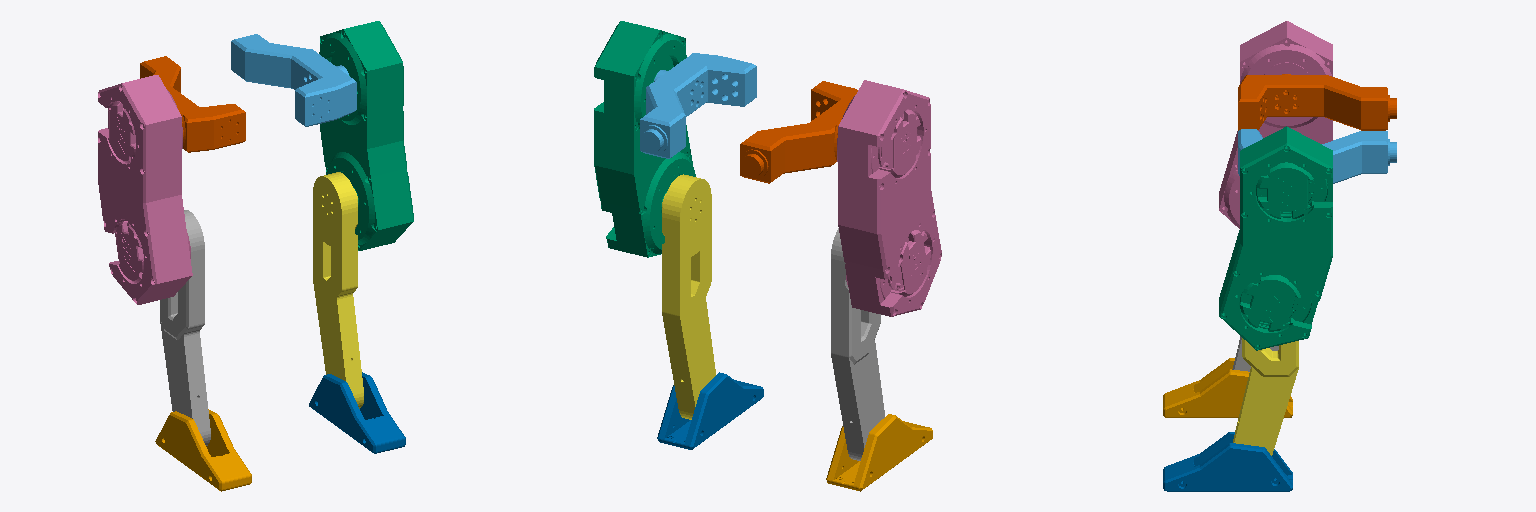
robot.urdf — BERNARD:
<robot name="BERNARD" version="1.0">
  <joint name="l_hip_joint" type="revolute">
    <dynamics damping="0.01000"/>
    <limit lower="-0.52360" upper="0.52360" effort="9.00000" velocity="9.00000"/>
    <origin rpy="0.00000 0.00000 0.00000" xyz="0.04994 -0.01531 0.00081"/>
    <parent link="body"/>
    <child link="l_hip"/>
    <axis xyz="0.00000 1.00000 0.00000"/>
  </joint>
  <joint name="l_arm_joint" type="revolute">
    <dynamics damping="0.01000"/>
    <limit lower="-0.87266" upper="1.91986" effort="9.00000" velocity="9.00000"/>
    <origin rpy="0.00000 0.00000 0.00000" xyz="0.05205 0.04685 -0.00010"/>
    <parent link="l_hip"/>
    <child link="l_arm"/>
    <axis xyz="1.00000 0.00000 0.00000"/>
  </joint>
  <joint name="l_knee_joint" type="revolute">
    <dynamics damping="0.01000"/>
    <limit lower="-1.74533" upper="2.09440" effort="9.00000" velocity="9.00000"/>
    <origin rpy="0.00000 0.00000 0.00000" xyz="-0.00042 -0.01548 -0.11919"/>
    <parent link="l_arm"/>
    <child link="l_forearm"/>
    <axis xyz="-1.00000 0.00000 0.00000"/>
  </joint>
  <joint name="l_foot_joint" type="revolute">
    <dynamics damping="0.01000"/>
    <limit lower="-1.39626" upper="1.22173" effort="0.00000" velocity="0.00000"/>
    <origin rpy="0.00000 0.00000 0.00000" xyz="-0.01749 -0.02000 -0.19000"/>
    <parent link="l_forearm"/>
    <child link="l_foot"/>
    <axis xyz="1.00000 0.00000 0.00000"/>
  </joint>
  <joint name="r_hip_joint" type="revolute">
    <dynamics damping="0.01000"/>
    <limit lower="-0.52360" upper="0.52360" effort="9.00000" velocity="9.00000"/>
    <origin rpy="0.00000 0.00000 0.00000" xyz="-0.04994 -0.01531 0.00081"/>
    <parent link="body"/>
    <child link="r_hip"/>
    <axis xyz="0.00000 1.00000 0.00000"/>
  </joint>
  <joint name="r_arm_joint" type="revolute">
    <dynamics damping="0.01000"/>
    <limit lower="-1.91986" upper="0.87266" effort="9.00000" velocity="9.00000"/>
    <origin rpy="0.00000 0.00000 0.00000" xyz="-0.05205 0.04685 -0.00010"/>
    <parent link="r_hip"/>
    <child link="r_arm"/>
    <axis xyz="-1.00000 0.00000 0.00000"/>
  </joint>
  <joint name="r_knee_joint" type="revolute">
    <dynamics damping="0.01000"/>
    <limit lower="-2.09440" upper="1.74533" effort="9.00000" velocity="9.00000"/>
    <origin rpy="0.00000 0.00000 0.00000" xyz="0.00042 -0.01548 -0.11919"/>
    <parent link="r_arm"/>
    <child link="r_forearm"/>
    <axis xyz="1.00000 0.00000 0.00000"/>
  </joint>
  <joint name="r_foot_joint" type="revolute">
    <dynamics damping="0.01000"/>
    <limit lower="-1.39626" upper="1.22173" effort="0.00000" velocity="0.00000"/>
    <origin rpy="0.00000 0.00000 0.00000" xyz="0.01749 -0.02000 -0.19000"/>
    <parent link="r_forearm"/>
    <child link="r_foot"/>
    <axis xyz="1.00000 0.00000 0.00000"/>
  </joint>
  <link name="body">
    <inertial>
      <inertia ixx="0.00935" ixy="-0.00027" ixz="-0.00024" iyy="0.00514" iyz="-0.00100" izz="0.00906"/>
      <origin rpy="0.00000 0.00000 0.00000" xyz="0.00372 0.03380 0.00945"/>
      <mass value="2.10000"/>
    </inertial>
    <collision name="Body_collision">
      <origin rpy="0.00000 0.00000 0.00000" xyz="-0.00001 0.04184 0.00149"/>
      <geometry>
        <box size="0.14245 0.20528 0.14803"/>
      </geometry>
    </collision>
    <sensor name="imu_sensor" type="imu">
      <parent link="body"/>
    </sensor>
    <visual name="Body">
      <origin rpy="1.57079633 0.00000 0.00000" xyz="0.00000 0.00000 0.00000"/>
      <geometry>
        <mesh filename="../meshes/obj/Body.obj" scale="1.00000 1.00000 1.00000"/>
      </geometry>
    </visual>
  </link>
  <link name="l_hip">
    <inertial>
      <inertia ixx="0.00017" ixy="0.00002" ixz="0.00000" iyy="0.00003" iyz="0.00000" izz="0.00019"/>
      <origin rpy="0.00000 0.00000 0.00000" xyz="0.01698 0.06739 -0.00000"/>
      <mass value="0.08000"/>
    </inertial>
    <visual name="L_Hip_Connector">
      <origin rpy="0.00000 -1.57079633 0.00000" xyz="0.00000 -0.00000 -0.00000"/>
      <geometry>
        <mesh filename="../meshes/obj/Hip_Connector.obj" scale="1.00000 1.00000 1.00000"/>
      </geometry>
    </visual>
  </link>
  <link name="l_arm">
    <inertial>
      <inertia ixx="0.00330" ixy="0.00001" ixz="-0.00000" iyy="0.00295" iyz="-0.00031" izz="0.00057"/>
      <origin rpy="0.00000 0.00000 0.00000" xyz="0.01944 -0.00693 -0.05951"/>
      <mass value="0.85000"/>
    </inertial>
    <collision name="L_Arm_collision">
      <origin rpy="-0.09437 0.00000 0.00000" xyz="0.01969 -0.00538 -0.05894"/>
      <geometry>
        <box size="0.04085 0.08711 0.19733"/>
      </geometry>
    </collision>
    <visual name="L_Arm">
      <origin rpy="1.57079633 0.00000 0.00000" xyz="-0.00000 0.00000 0.00000"/>
      <geometry>
        <mesh filename="../meshes/obj/L_Arm.obj" scale="1.00000 1.00000 1.00000"/>
      </geometry>
    </visual>
  </link>
  <link name="l_forearm">
    <inertial>
      <inertia ixx="0.00063" ixy="-0.00000" ixz="-0.00001" iyy="0.00061" iyz="-0.00007" izz="0.00003"/>
      <origin rpy="0.00000 0.00000 0.00000" xyz="-0.01689 -0.00721 -0.10326"/>
      <mass value="0.12000"/>
    </inertial>
    <collision name="L_Forearm_collision">
      <origin rpy="-0.09719 0.00000 0.00000" xyz="-0.01756 -0.00403 -0.07785"/>
      <geometry>
        <box size="0.02168 0.04390 0.17549"/>
      </geometry>
    </collision>
    <visual name="L_Forearm">
      <origin rpy="1.57079633 0.00000 0.00000" xyz="-0.00000 0.00000 0.00000"/>
      <geometry>
        <mesh filename="../meshes/obj/L_Forearm.obj" scale="1.00000 1.00000 1.00000"/>
      </geometry>
    </visual>
  </link>
  <link name="l_foot">
    <inertial>
      <inertia ixx="0.00006" ixy="-0.00000" ixz="0.00000" iyy="0.00001" iyz="-0.00000" izz="0.00006"/>
      <origin rpy="0.00000 0.00000 0.00000" xyz="0.00004 -0.01759 -0.01344"/>
      <mass value="0.06000"/>
    </inertial>
    <collision name="L_Foot_collision">
      <origin rpy="0.00000 0.00000 0.00000" xyz="0.00000 -0.02129 -0.02427"/>
      <geometry>
        <box size="0.03697 0.12436 0.00963"/>
      </geometry>
    </collision>
    <visual name="L_Foot">
      <origin rpy="1.57079633 0.00000 0.00000" xyz="-0.00000 0.00000 0.00000"/>
      <geometry>
        <mesh filename="../meshes/obj/Foot.obj" scale="1.00000 1.00000 1.00000"/>
      </geometry>
    </visual>
  </link>
  <link name="r_hip">
    <inertial>
      <inertia ixx="0.00017" ixy="-0.00002" ixz="0.00000" iyy="0.00003" iyz="-0.00000" izz="0.00019"/>
      <origin rpy="0.00000 0.00000 0.00000" xyz="-0.01698 0.06739 0.00000"/>
      <mass value="0.08000"/>
    </inertial>
    <visual name="R_Hip_Connector">
      <origin rpy="3.14159 1.57079633 3.14159" xyz="-0.00000 -0.00000 -0.00000"/>
      <geometry>
        <mesh filename="../meshes/obj/Hip_Connector.obj" scale="1.00000 1.00000 1.00000"/>
      </geometry>
    </visual>
  </link>
  <link name="r_arm">
    <inertial>
      <inertia ixx="0.00330" ixy="-0.00001" ixz="0.00000" iyy="0.00295" iyz="-0.00031" izz="0.00057"/>
      <origin rpy="0.00000 0.00000 0.00000" xyz="-0.01944 -0.00694 -0.05960"/>
      <mass value="0.85000"/>
    </inertial>
    <collision name="R_Arm_collision">
      <origin rpy="-0.09437 0.00000 0.00000" xyz="-0.01969 -0.00538 -0.05893"/>
      <geometry>
        <box size="0.04085 0.08711 0.19733"/>
      </geometry>
    </collision>
    <visual name="R_Arm">
      <origin rpy="1.57079633 0.00000 0.00000" xyz="-0.00000 -0.00000 0.00000"/>
      <geometry>
        <mesh filename="../meshes/obj/R_Arm.obj" scale="1.00000 1.00000 1.00000"/>
      </geometry>
    </visual>
  </link>
  <link name="r_forearm">
    <inertial>
      <inertia ixx="0.00063" ixy="0.00000" ixz="0.00001" iyy="0.00061" iyz="-0.00007" izz="0.00003"/>
      <origin rpy="0.00000 0.00000 0.00000" xyz="0.01689 -0.00721 -0.10326"/>
      <mass value="0.12000"/>
    </inertial>
    <collision name="R_Forearm_collision">
      <origin rpy="-0.09719 0.00000 0.00000" xyz="0.01756 -0.00403 -0.07785"/>
      <geometry>
        <box size="0.02168 0.04390 0.17549"/>
      </geometry>
    </collision>
    <visual name="R_Forearm">
      <origin rpy="1.57079633 0.00000 0.00000" xyz="-0.00000 -0.00000 -0.00000"/>
      <geometry>
        <mesh filename="../meshes/obj/R_Forearm.obj" scale="1.00000 1.00000 1.00000"/>
      </geometry>
    </visual>
  </link>
  <link name="r_foot">
    <inertial>
      <inertia ixx="0.00006" ixy="-0.00000" ixz="0.00000" iyy="0.00001" iyz="-0.00000" izz="0.00006"/>
      <origin rpy="0.00000 0.00000 0.00000" xyz="0.00004 -0.01759 -0.01344"/>
      <mass value="0.06000"/>
    </inertial>
    <collision name="R_Foot_collision">
      <origin rpy="0.00000 0.00000 0.00000" xyz="0.00000 -0.02129 -0.02427"/>
      <geometry>
        <box size="0.03697 0.12436 0.00963"/>
      </geometry>
    </collision>
    <visual name="R_Foot">
      <origin rpy="1.57079633 0.00000 0.00000" xyz="0.00000 -0.00000 -0.00000"/>
      <geometry>
        <mesh filename="../meshes/obj/Foot.obj" scale="1.00000 1.00000 1.00000"/>
      </geometry>
    </visual>
  </link>
</robot>

--- What the picture shows (computed from the rendered views, not written in the file) ---
The picture shows the robot from 3 angles, left to right: view 1: azimuth 30°, elevation 25°; view 2: azimuth 150°, elevation 25°; view 3: azimuth 270°, elevation 25°; orthographic projection.
Model BERNARD with 9 links and 8 joints (8 revolute), rooted at body, posed all joints at 0.
Visible links, largest first — view 1: r_arm, l_arm, l_forearm, l_hip, r_forearm, l_foot, r_foot, r_hip; view 2: r_arm, l_arm, l_forearm, r_forearm, l_hip, r_hip, r_foot, l_foot; view 3: l_arm, r_hip, r_arm, l_foot, l_forearm, r_foot, l_hip.
Link boxes in pixels (x1,y1,x2,y2): r_arm: (98,75,192,304); l_arm: (319,21,413,250); l_forearm: (313,172,363,408); l_hip: (231,34,356,126); r_forearm: (160,210,210,445); l_foot: (309,372,405,453); r_foot: (155,409,251,491); r_hip: (140,56,245,152); r_arm: (837,80,941,316); l_arm: (594,21,695,257); l_forearm: (662,174,715,419); r_forearm: (831,228,884,460); l_hip: (640,53,756,158); r_hip: (740,81,857,183); r_foot: (826,414,932,491); l_foot: (657,372,763,449); l_arm: (1219,126,1332,350); r_hip: (1238,74,1396,130); r_arm: (1219,21,1332,228); l_foot: (1163,432,1292,491); l_forearm: (1233,338,1298,455); r_foot: (1163,358,1292,417); l_hip: (1238,129,1396,183).
Size in the robot's own frame: 0.2864 by 0.2254 by 0.3902 metres.
Meshes: 7 distinct files referenced, 8 mesh visuals loaded (6 OBJ); not drawn: 1 (reference not matched to a file when rendering).
